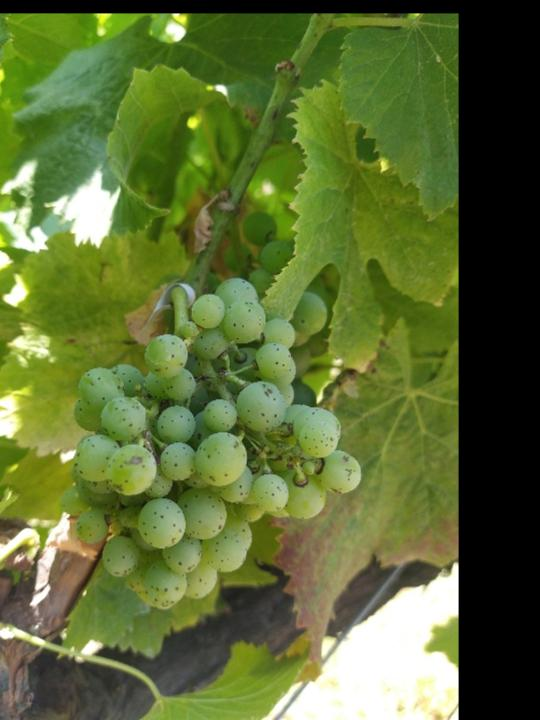grape: (56, 274, 363, 611)
